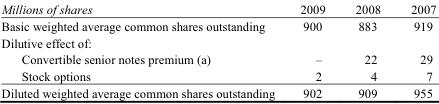table: (0, 0, 435, 100)
table column: (0, 0, 286, 100), (339, 0, 395, 100), (286, 0, 339, 100), (395, 0, 435, 100)
table column header: (0, 0, 435, 17)
table projected row header: (0, 34, 435, 50)
table row: (0, 0, 435, 17), (0, 17, 435, 34), (0, 50, 435, 67), (0, 83, 435, 100), (0, 34, 435, 50), (0, 67, 435, 83)
